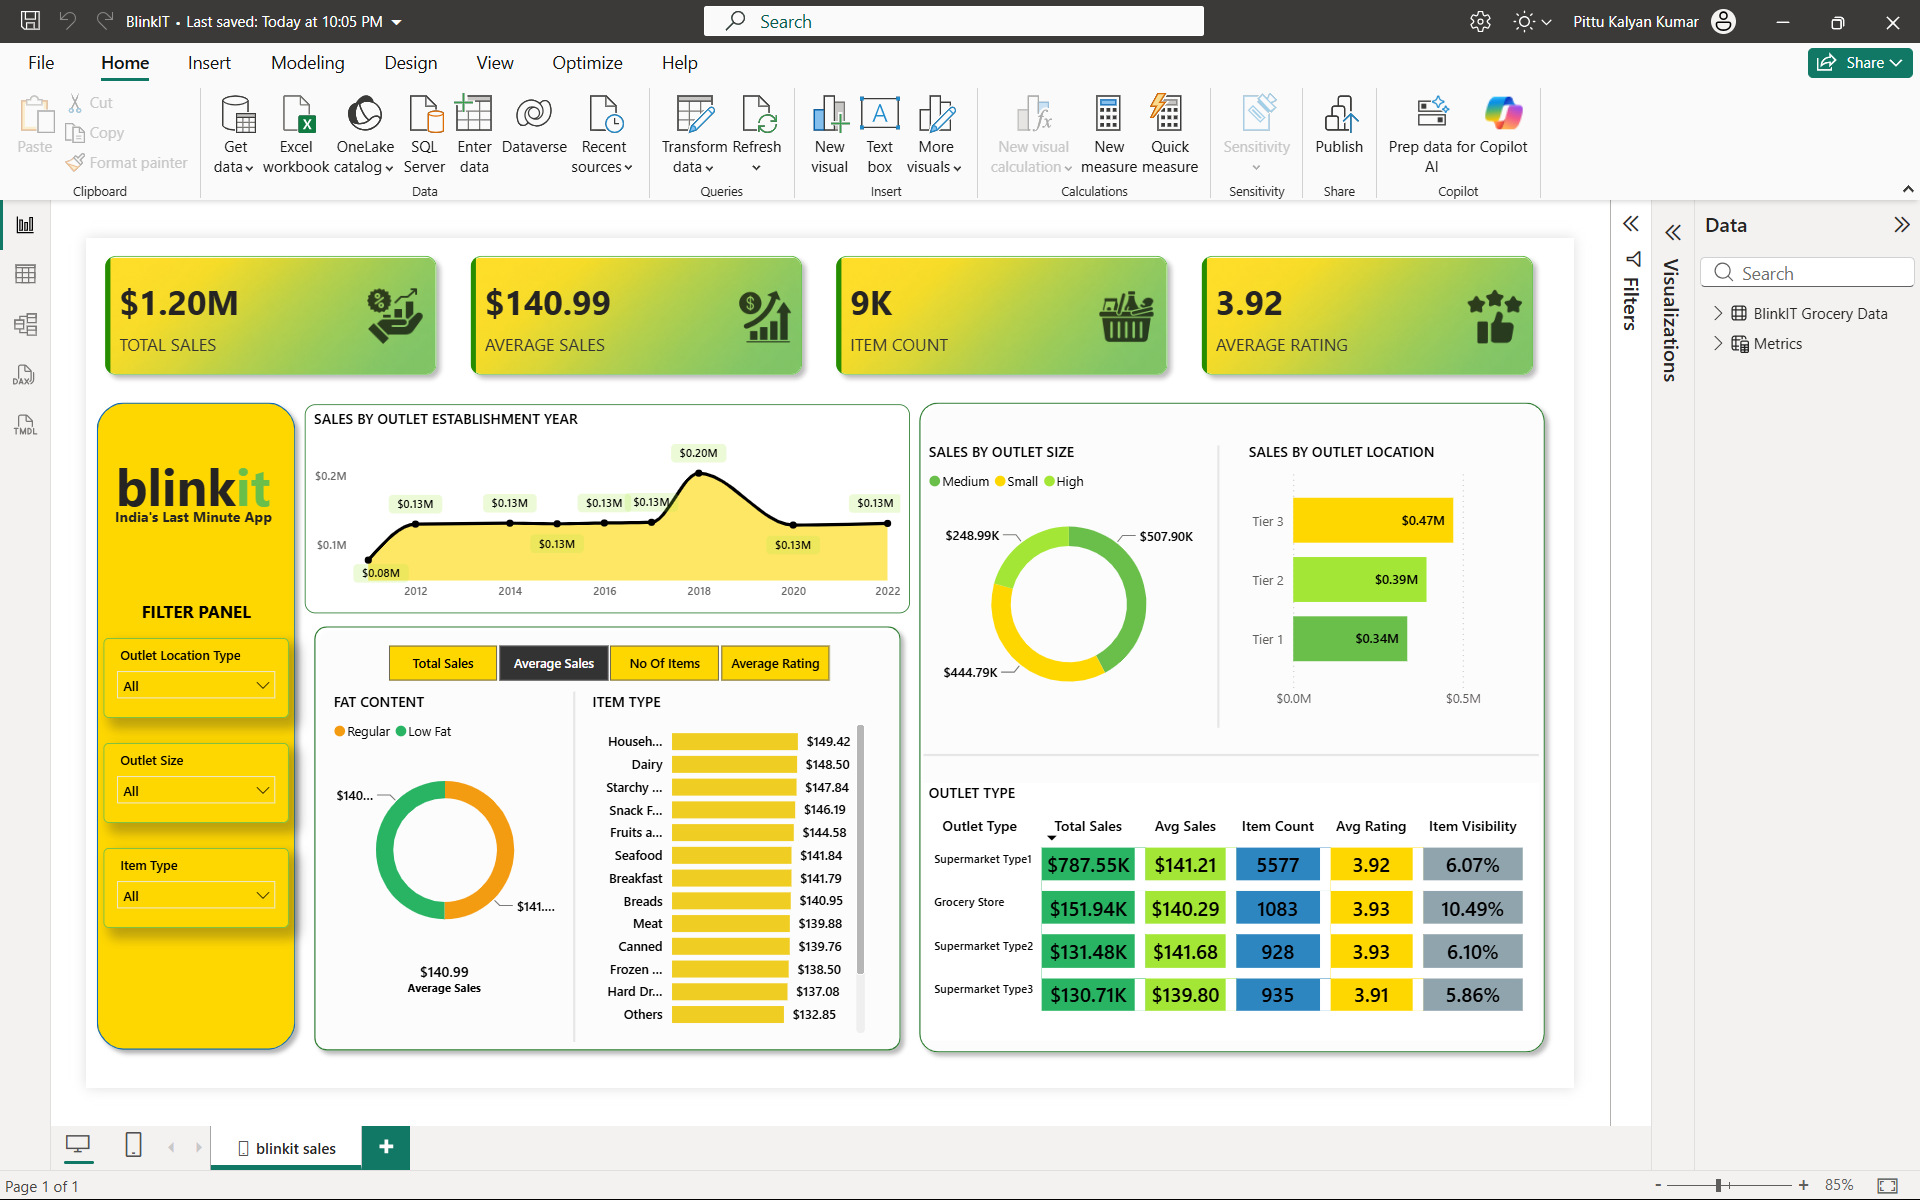

Layout of this report page (visuals, bound fields, positions):
{"tool":"powerbi","page":{"name":"blinkit sales","canvas":[1400,800],"ordinal":0},"visuals":[{"type":"shape","box":[1.3,146.3,204.8,627],"z":0},{"type":"textbox","box":[16.6,195.7,168.6,85],"z":1000},{"type":"textbox","box":[18.1,248.4,167.1,30],"z":2000},{"type":"shape","box":[206,356.1,569.8,417.2],"z":3000},{"type":"donutChart","title":"FAT CONTENT","fields":{"Category":["BlinkIT Grocery Data.Item Fat Content"],"Y":["BlinkIT Grocery Data.Average Sales"]},"box":[228.8,427.5,219.8,252.9],"z":4000},{"type":"slicer","fields":{"Values":["Metrics.Metrics"]},"box":[258.9,376.3,465.2,46.7],"z":5000},{"type":"cardVisual","fields":{"Data":["BlinkIT Grocery Data.Average Sales"]},"box":[281.5,663.9,112.9,67.7],"z":6000},{"type":"shape","box":[448.6,427.5,22.6,329.7],"z":7000},{"type":"barChart","title":"ITEM TYPE","fields":{"Category":["BlinkIT Grocery Data.Item Type"],"Y":["BlinkIT Grocery Data.Average Sales"]},"box":[471.2,427.5,266.5,326.7],"z":8000},{"type":"shape","box":[775.8,146.3,606.7,629.5],"z":9000},{"type":"lineChart","title":"SALES BY OUTLET ESTABLISHMENT YEAR","fields":{"Category":["BlinkIT Grocery Data.Outlet Establishment Year"],"Y":["BlinkIT Grocery Data.Total Sales"]},"box":[206,156.4,569.8,197.1],"z":10000},{"type":"donutChart","title":"SALES BY OUTLET SIZE","fields":{"Category":["BlinkIT Grocery Data.Outlet Size"],"Y":["BlinkIT Grocery Data.Total Sales"]},"box":[788.8,191.2,274,260.4],"z":11000},{"type":"shape","box":[1051.8,195.9,28,265.8],"z":12000},{"type":"barChart","title":"SALES BY OUTLET LOCATION","fields":{"Category":["BlinkIT Grocery Data.Outlet Location Type"],"Y":["Sum(BlinkIT Grocery Data.Sales)"]},"box":[1089.9,191.2,260.4,260.4],"z":13000},{"type":"shape","box":[788.8,475.7,579.6,22.6],"z":14000},{"type":"pivotTable","title":"OUTLET TYPE","fields":{"Rows":["BlinkIT Grocery Data.Outlet Type"],"Values":["BlinkIT Grocery Data.Total Sales","BlinkIT Grocery Data.Average Sales","BlinkIT Grocery Data.No Of Items","BlinkIT Grocery Data.Average Rating","Avg(BlinkIT Grocery Data.Item Visibility)"]},"box":[788.8,513.3,579.6,242.4],"z":15000},{"type":"slicer","fields":{"Values":["BlinkIT Grocery Data.Outlet Location Type"]},"box":[16.6,376.3,174.6,75],"z":16000},{"type":"slicer","fields":{"Values":["BlinkIT Grocery Data.Outlet Size"]},"box":[16.6,475.7,174.6,75],"z":17000},{"type":"slicer","fields":{"Values":["BlinkIT Grocery Data.Item Type"]},"box":[16.6,573.5,174.6,75.3],"z":18000},{"type":"textbox","box":[16.6,335.7,174.6,40.6],"z":19000},{"type":"cardVisual","fields":{"Data":["BlinkIT Grocery Data.Total Sales","BlinkIT Grocery Data.Average Sales","BlinkIT Grocery Data.No Of Items","BlinkIT Grocery Data.Average Rating"]},"box":[1.3,0,1381.2,146.3],"z":20000}]}

Visuals, with their boxes on the page's 1400x800 design canvas (x1, y1, x2, y2). These are canvas units, not pixel positions in the 1920x1200 screenshot, which may show the page scaled, cropped or inside an application window:
shape: left=1, top=146, right=206, bottom=773
textbox: left=17, top=196, right=185, bottom=281
textbox: left=18, top=248, right=185, bottom=278
shape: left=206, top=356, right=776, bottom=773
"FAT CONTENT" donutChart: left=229, top=428, right=449, bottom=680
slicer - Metrics.Metrics: left=259, top=376, right=724, bottom=423
cardVisual - BlinkIT Grocery Data.Average Sales: left=282, top=664, right=394, bottom=732
shape: left=449, top=428, right=471, bottom=757
"ITEM TYPE" barChart: left=471, top=428, right=738, bottom=754
shape: left=776, top=146, right=1382, bottom=776
"SALES BY OUTLET ESTABLISHMENT YEAR" lineChart: left=206, top=156, right=776, bottom=354
"SALES BY OUTLET SIZE" donutChart: left=789, top=191, right=1063, bottom=452
shape: left=1052, top=196, right=1080, bottom=462
"SALES BY OUTLET LOCATION" barChart: left=1090, top=191, right=1350, bottom=452
shape: left=789, top=476, right=1368, bottom=498
"OUTLET TYPE" pivotTable: left=789, top=513, right=1368, bottom=756
slicer - BlinkIT Grocery Data.Outlet Location Type: left=17, top=376, right=191, bottom=451
slicer - BlinkIT Grocery Data.Outlet Size: left=17, top=476, right=191, bottom=551
slicer - BlinkIT Grocery Data.Item Type: left=17, top=574, right=191, bottom=649
textbox: left=17, top=336, right=191, bottom=376
cardVisual - BlinkIT Grocery Data.Total Sales x BlinkIT Grocery Data.Average Sales: left=1, top=0, right=1382, bottom=146
